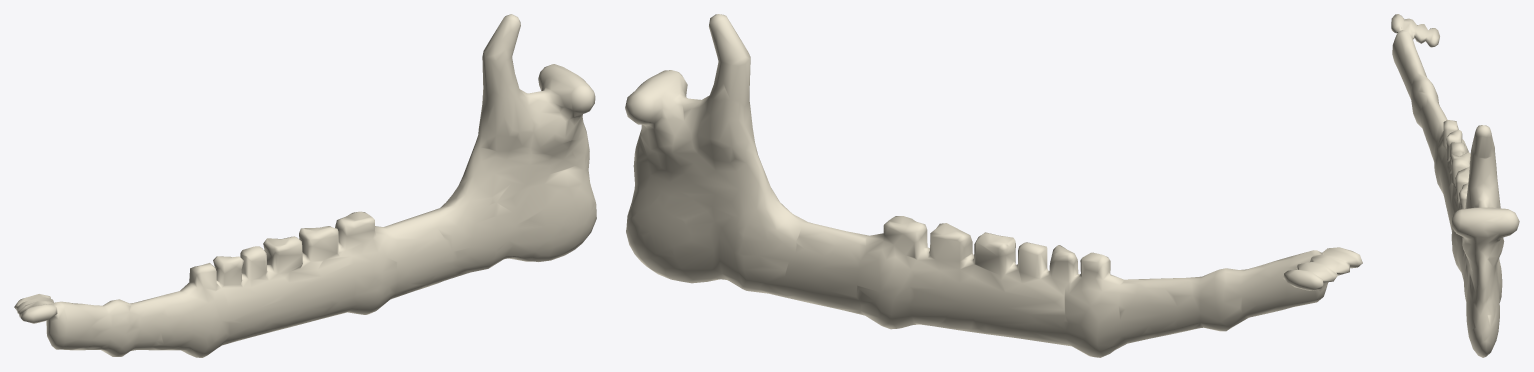
The model's file is mandible_r.glb.
3 renders of one model, left to right at view 1: azimuth 30°, elevation 25°; view 2: azimuth 150°, elevation 25°; view 3: azimuth 270°, elevation 25°, orthographic. The views are drawn at different scales.
Visible parts, largest first — view 1: geometry_0; view 2: geometry_0; view 3: geometry_0.
Part boxes in pixels (x1,y1,x2,y2): geometry_0: [14, 14, 596, 357]; geometry_0: [625, 14, 1362, 357]; geometry_0: [1391, 14, 1519, 357].
Bounding box in the file's own units: 0.8835 × 0.3459 × 0.1885.
